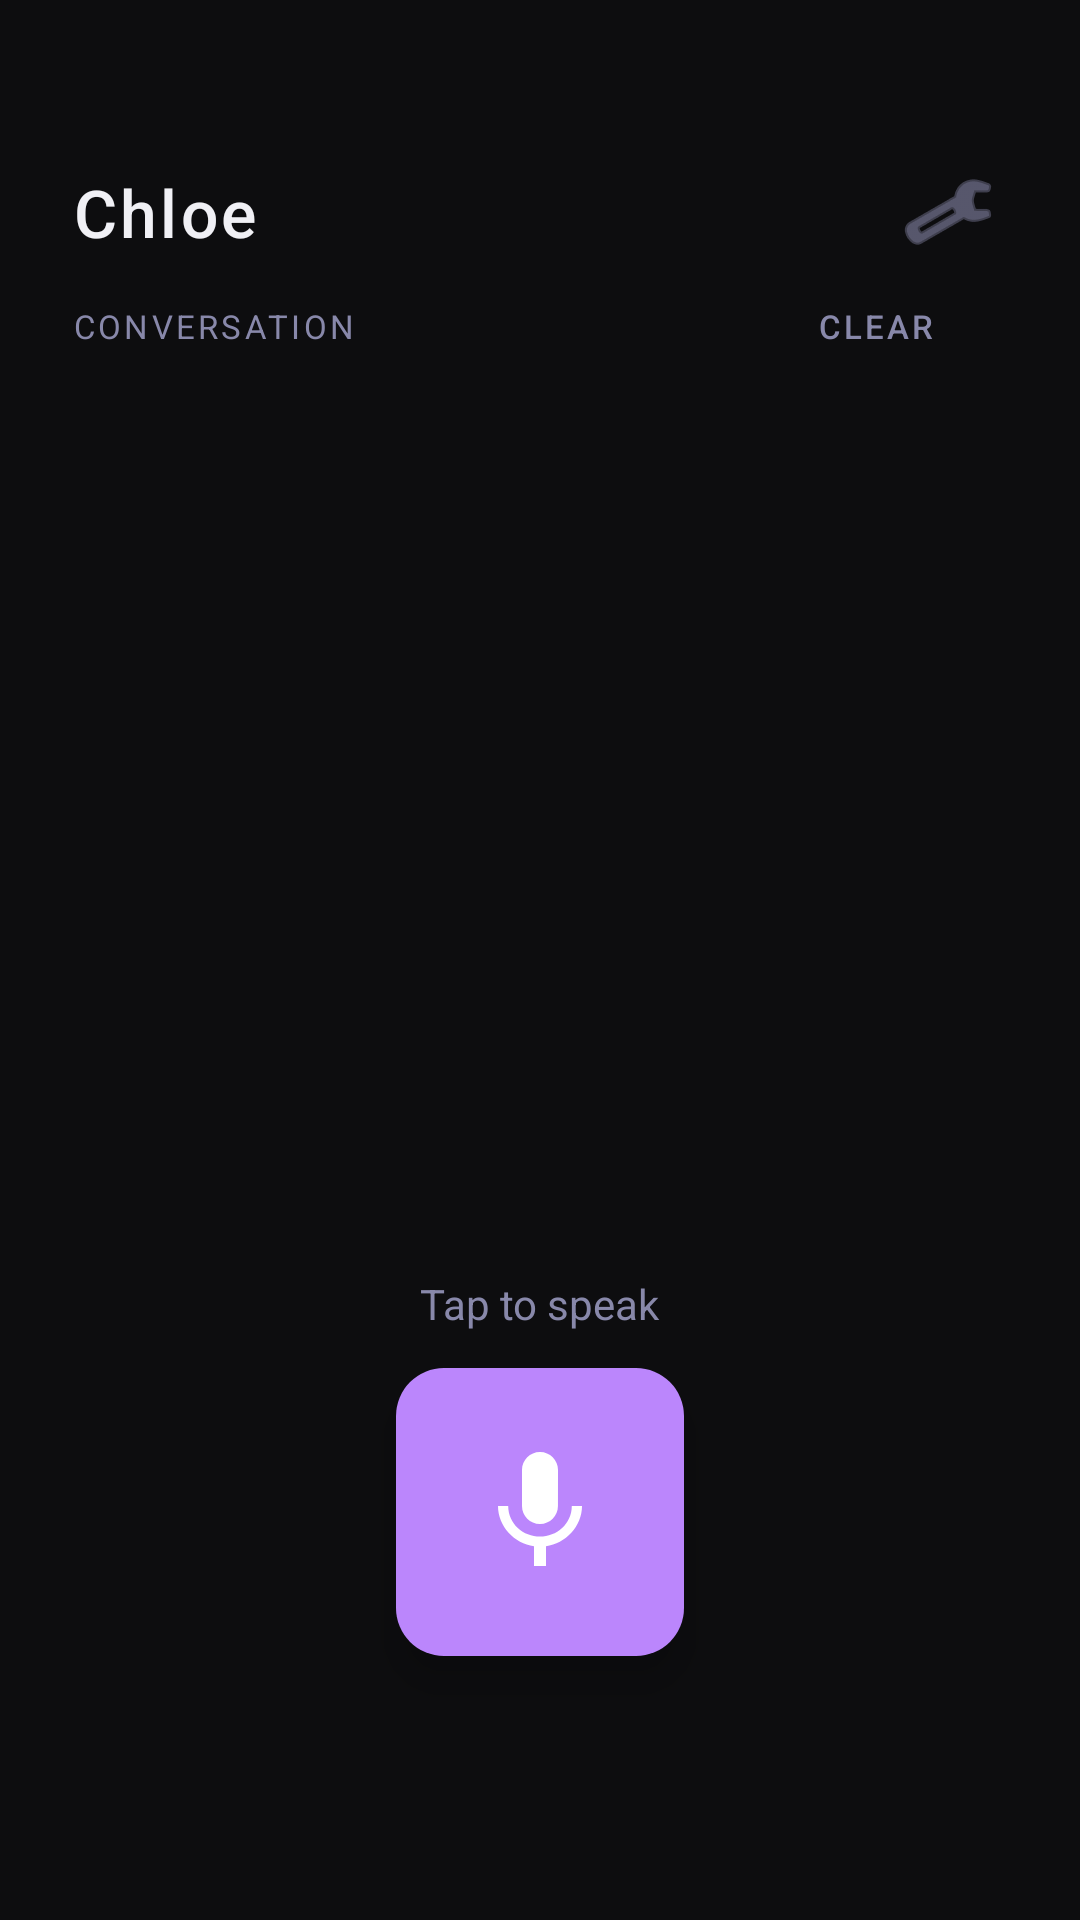

Icons on this 1080×1920 Android screen, each with its box as box(x1, y1, x2, y2):
mic: box(396, 1368, 684, 1656)
Settings: box(905, 179, 991, 245)
